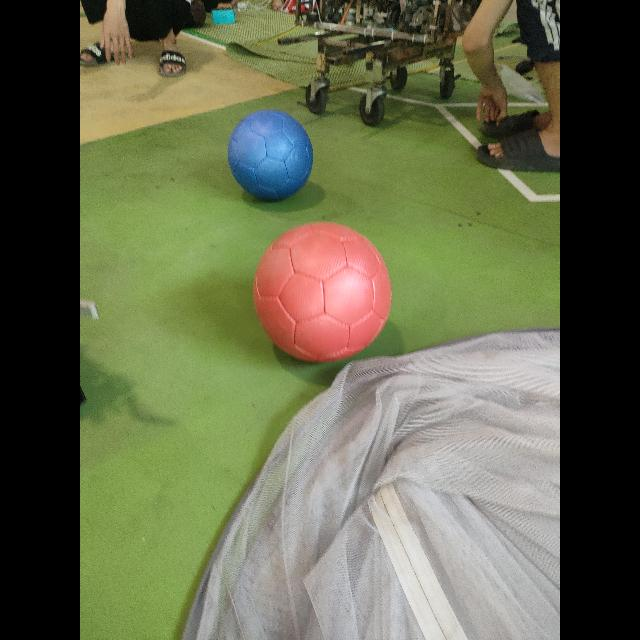B: (227, 111, 314, 205)
R: (252, 222, 393, 367)
